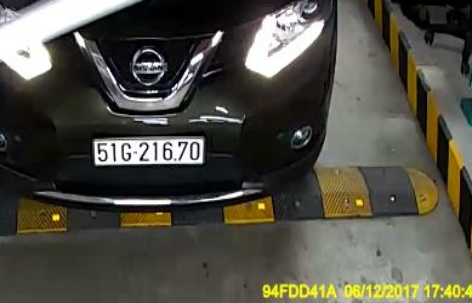plate: (84, 130, 207, 171)
